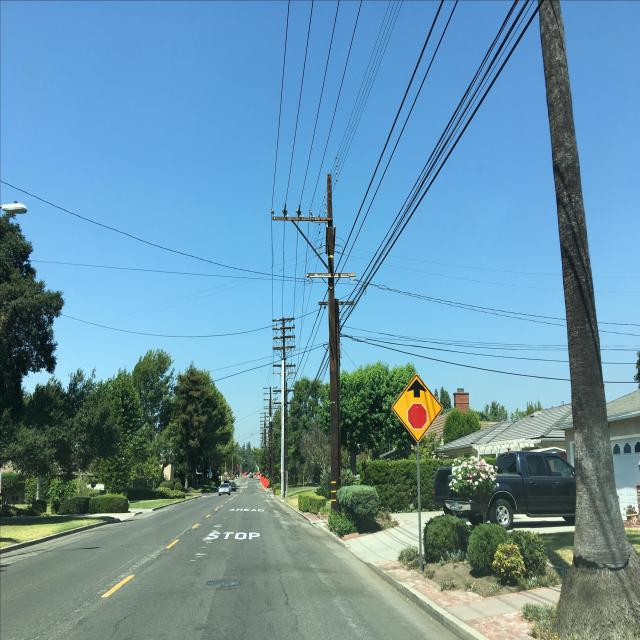Good: (205, 575, 247, 592)
